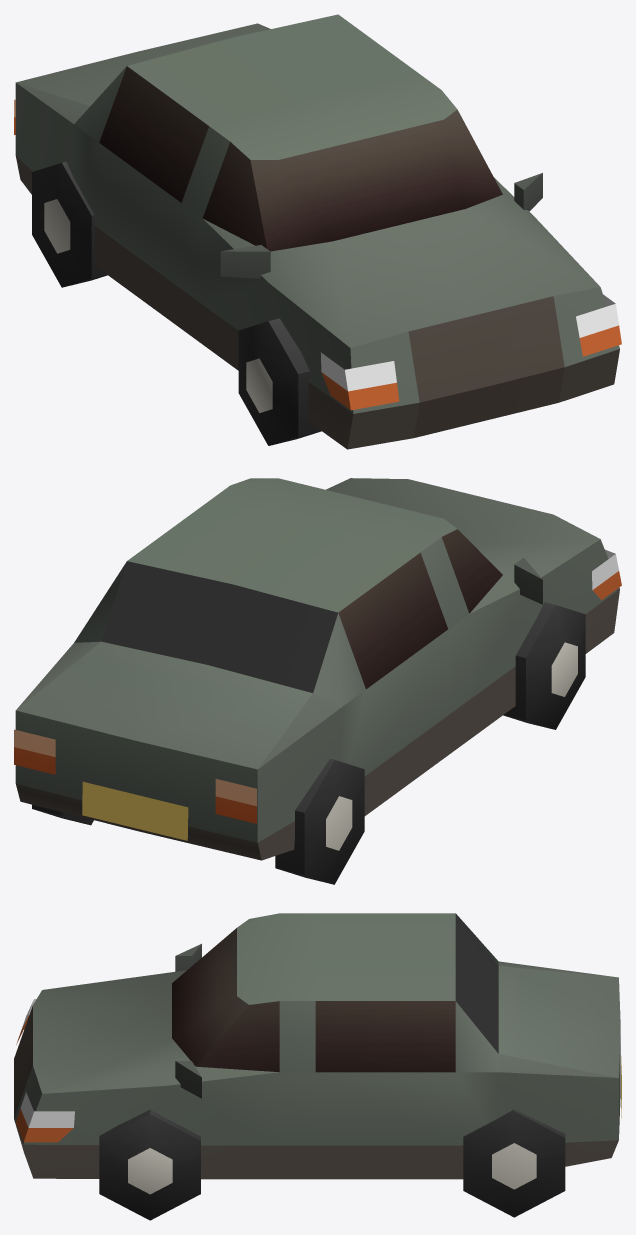
Rendered from Traffic_Car_01.fbx.
3 renders of one model, top to bottom at view 1: azimuth 30°, elevation 25°; view 2: azimuth 150°, elevation 25°; view 3: azimuth 270°, elevation 25°, orthographic. The views are drawn at different scales.
Visible parts, largest first — view 1: Traffic_Car_01; view 2: Traffic_Car_01; view 3: Traffic_Car_01.
Part boxes in pixels (box(x1,y1,x2,y2)): Traffic_Car_01: box(14, 14, 621, 449); Traffic_Car_01: box(14, 478, 621, 884); Traffic_Car_01: box(14, 913, 621, 1220).
Size of the model in its own units: 0.7297 by 0.5239 by 1.4.
